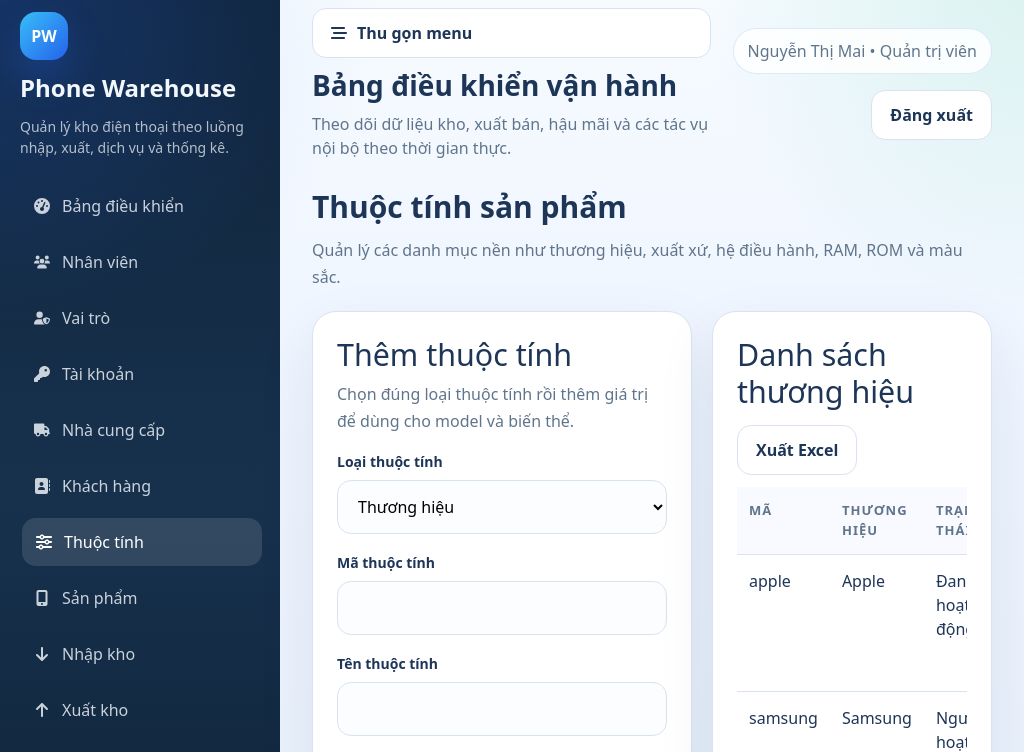
Test: Product pages › loads attributes and creates a new brand
The width and height of the screenshot is (1024, 752).
Expected: the text "Apple" is shown, [830,555,924,692]
Type "oneplus" into the field labelled "Mã thuộc tính".
click(502, 608); type("oneplus")  # box [337,581,667,635]
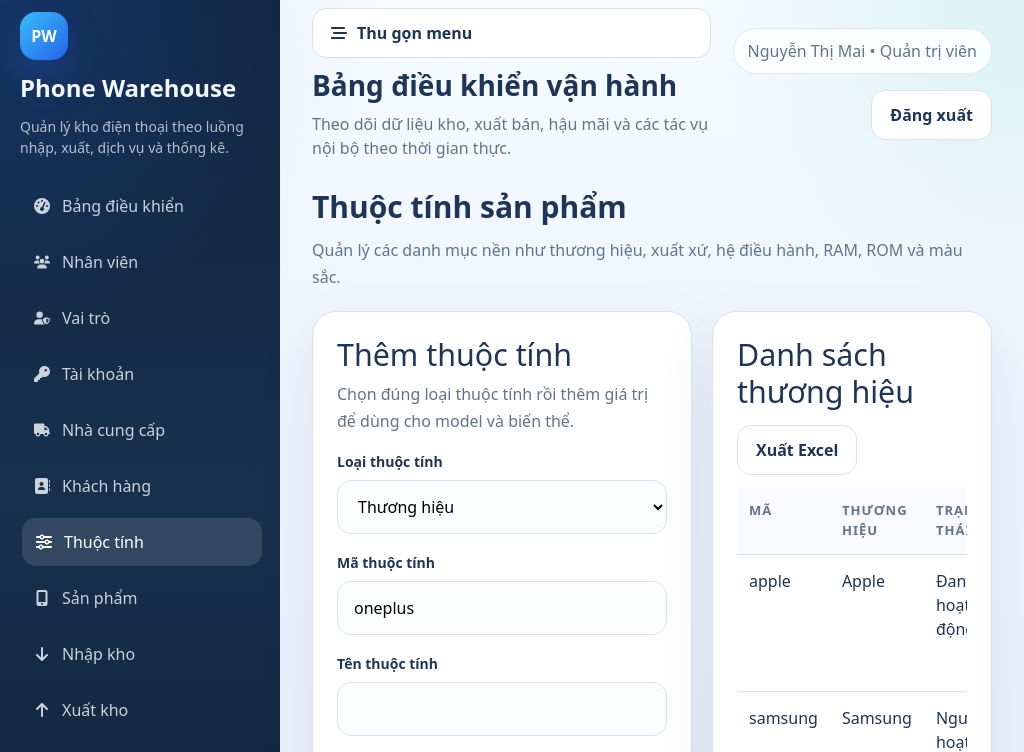
Type "OnePlus" into the field labelled "Tên thuộc tính".
click(502, 709); type("OnePlus")  # box [337,682,667,736]
(page scrolled)
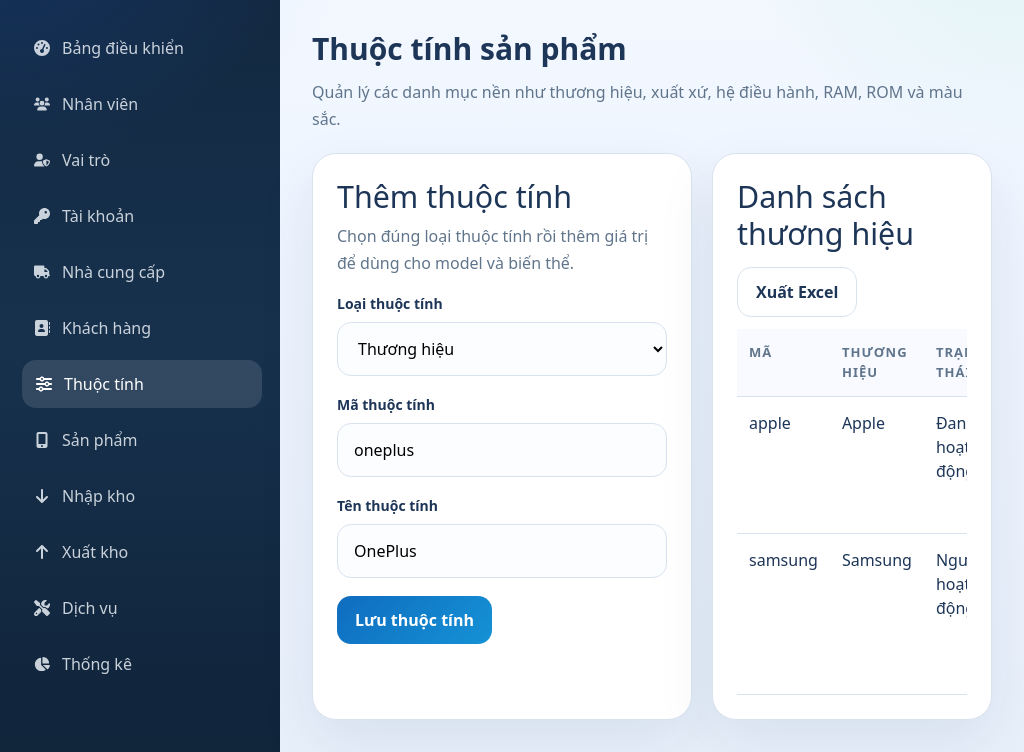
Click the button "Lưu thuộc tính".
click(414, 620)  # box [337,596,492,644]
(page scrolled)
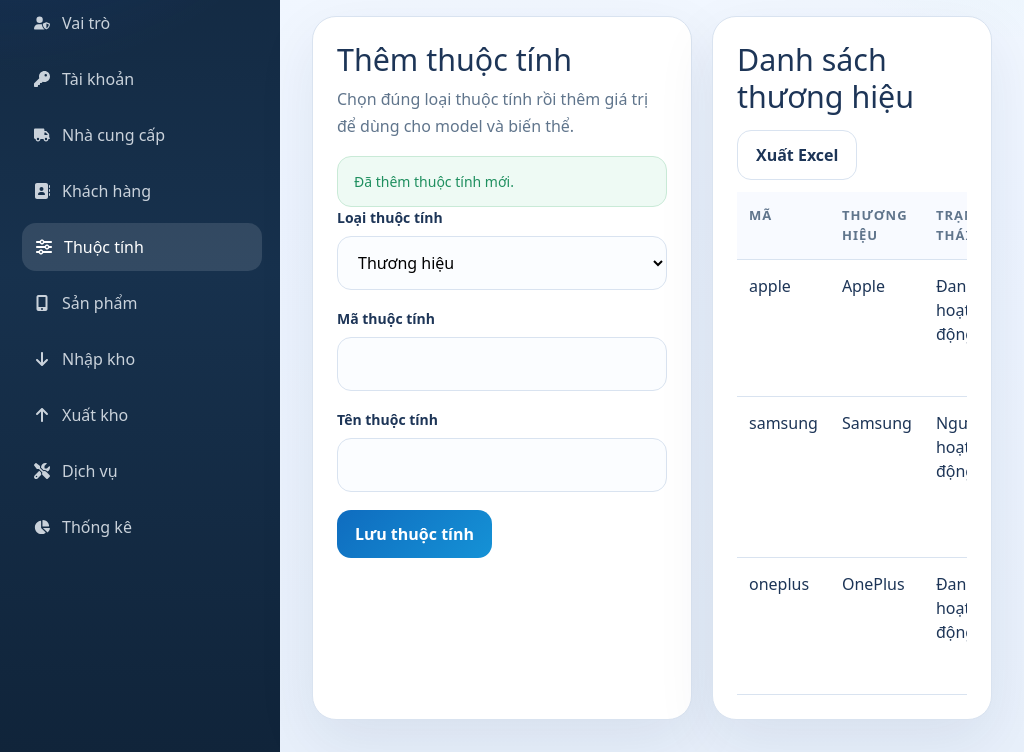
Now the text "OnePlus" is shown, box [830,558,924,695]
